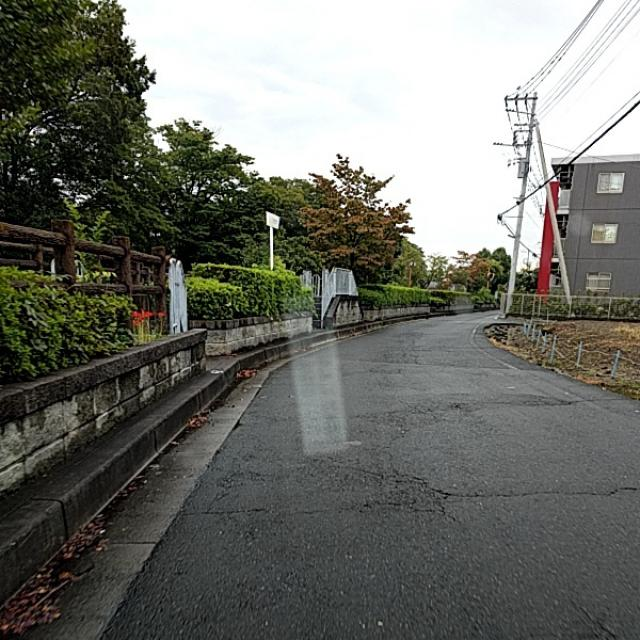pothole: (379, 438, 481, 518)
